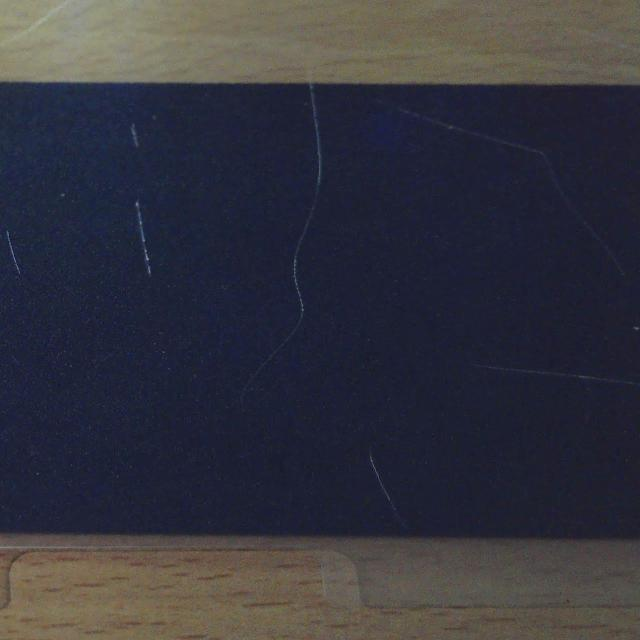defect: (382, 106, 619, 274), (239, 83, 324, 406), (464, 356, 640, 398), (360, 450, 418, 535), (134, 198, 158, 280), (2, 227, 27, 280), (127, 120, 145, 154)
